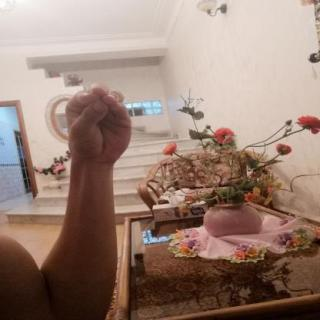HA: (45, 74, 151, 177)
